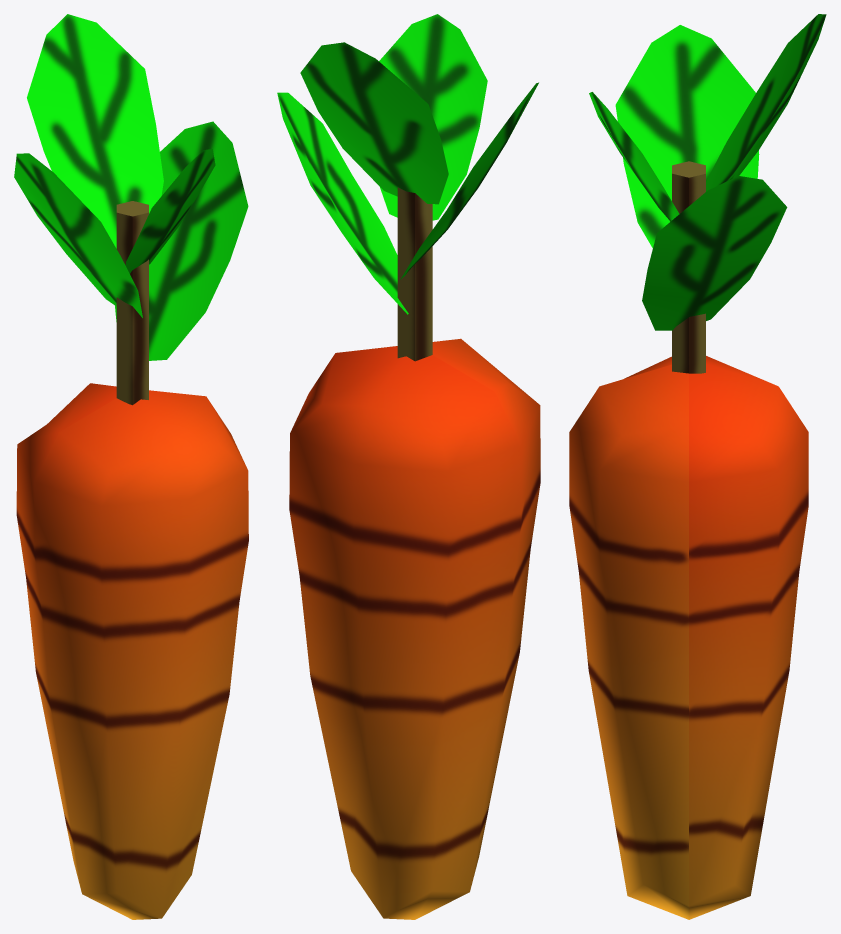
The model's file is Carrot.fbx.
3 views of the same model, side by side, from view 1: azimuth 30°, elevation 25°; view 2: azimuth 150°, elevation 25°; view 3: azimuth 270°, elevation 25° (orthographic). The views are drawn at different scales.
Visible parts, largest first — view 1: Carrot_geo; view 2: Carrot_geo; view 3: Carrot_geo.
Boxes of the visible parts, x1,y1,x2,y2 form: Carrot_geo: (14,14,248,919); Carrot_geo: (277,14,540,919); Carrot_geo: (569,14,826,919).
Size of the model in its own units: 1.1 by 4.18 by 1.08.
